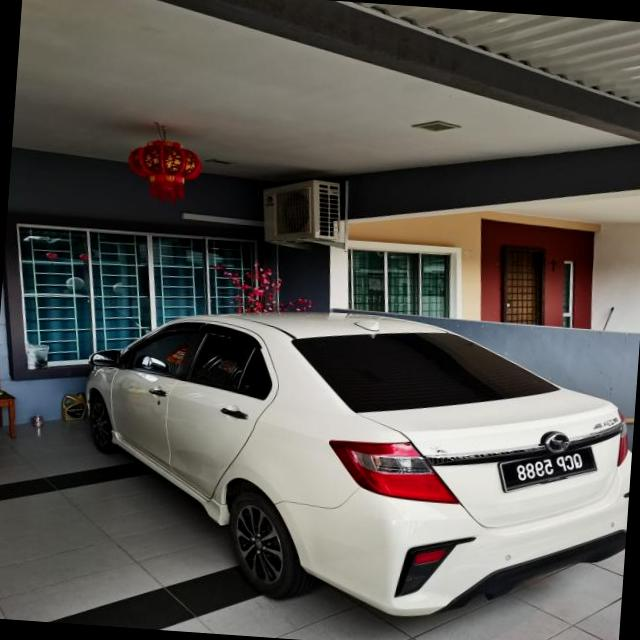PeroduaBezza: (68, 292, 640, 632)
